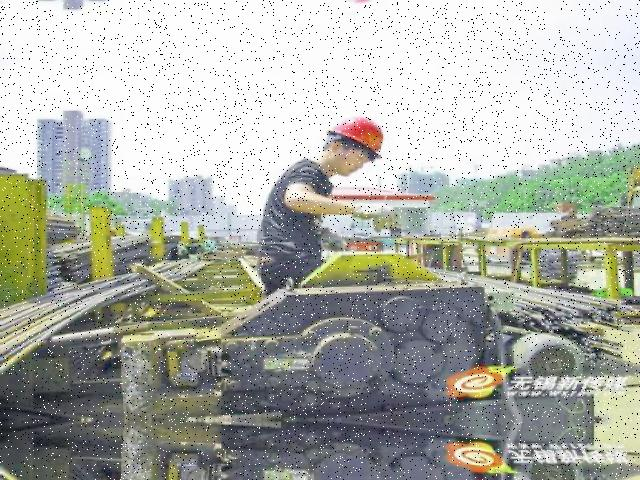Helmet: (322, 111, 384, 160)
